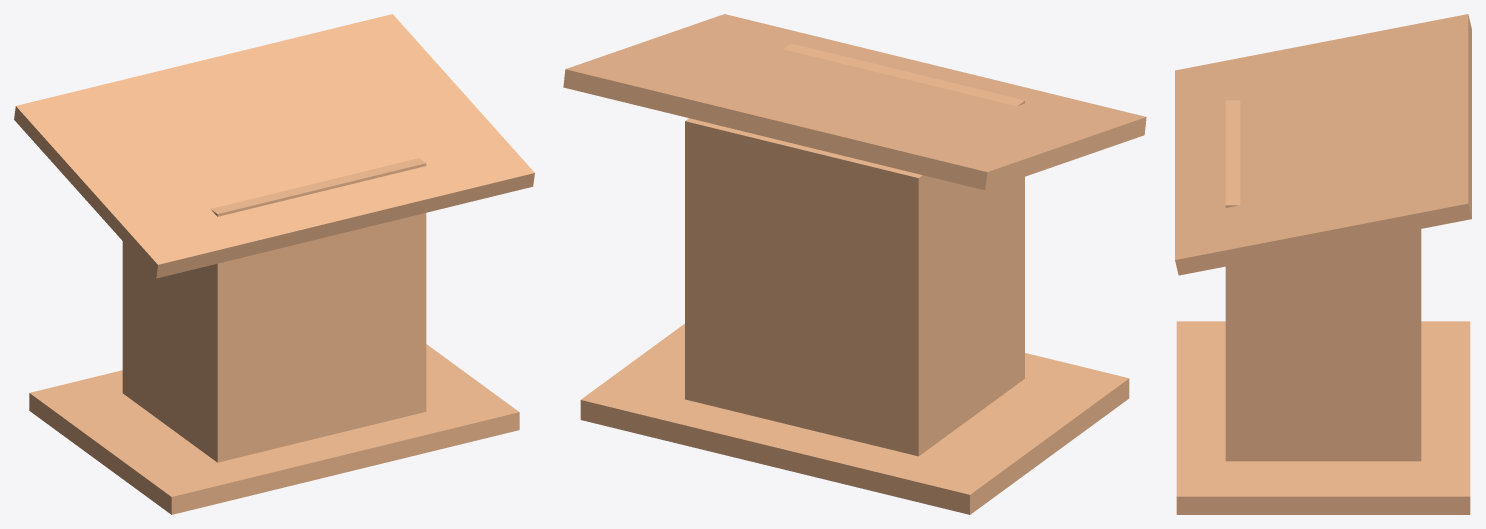
3 renders of one model, left to right at view 1: azimuth 30°, elevation 25°; view 2: azimuth 150°, elevation 25°; view 3: azimuth 270°, elevation 25°, orthographic. The views are drawn at different scales.
Visible parts, largest first — view 1: Reading top, Body, Foot; view 2: Body, Reading top, Foot; view 3: Reading top, Body, Foot.
Boxes of the visible parts, x1,y1,x2,y2 form: Reading top: [14, 14, 534, 278]; Body: [122, 158, 426, 462]; Foot: [29, 344, 519, 514]; Body: [685, 43, 1024, 456]; Reading top: [563, 14, 1146, 190]; Foot: [580, 323, 1129, 514]; Reading top: [1175, 14, 1471, 275]; Body: [1225, 100, 1421, 461]; Foot: [1176, 321, 1470, 514].
Bounding box in the file's own units: 58.5 × 45.84 × 38.72.
